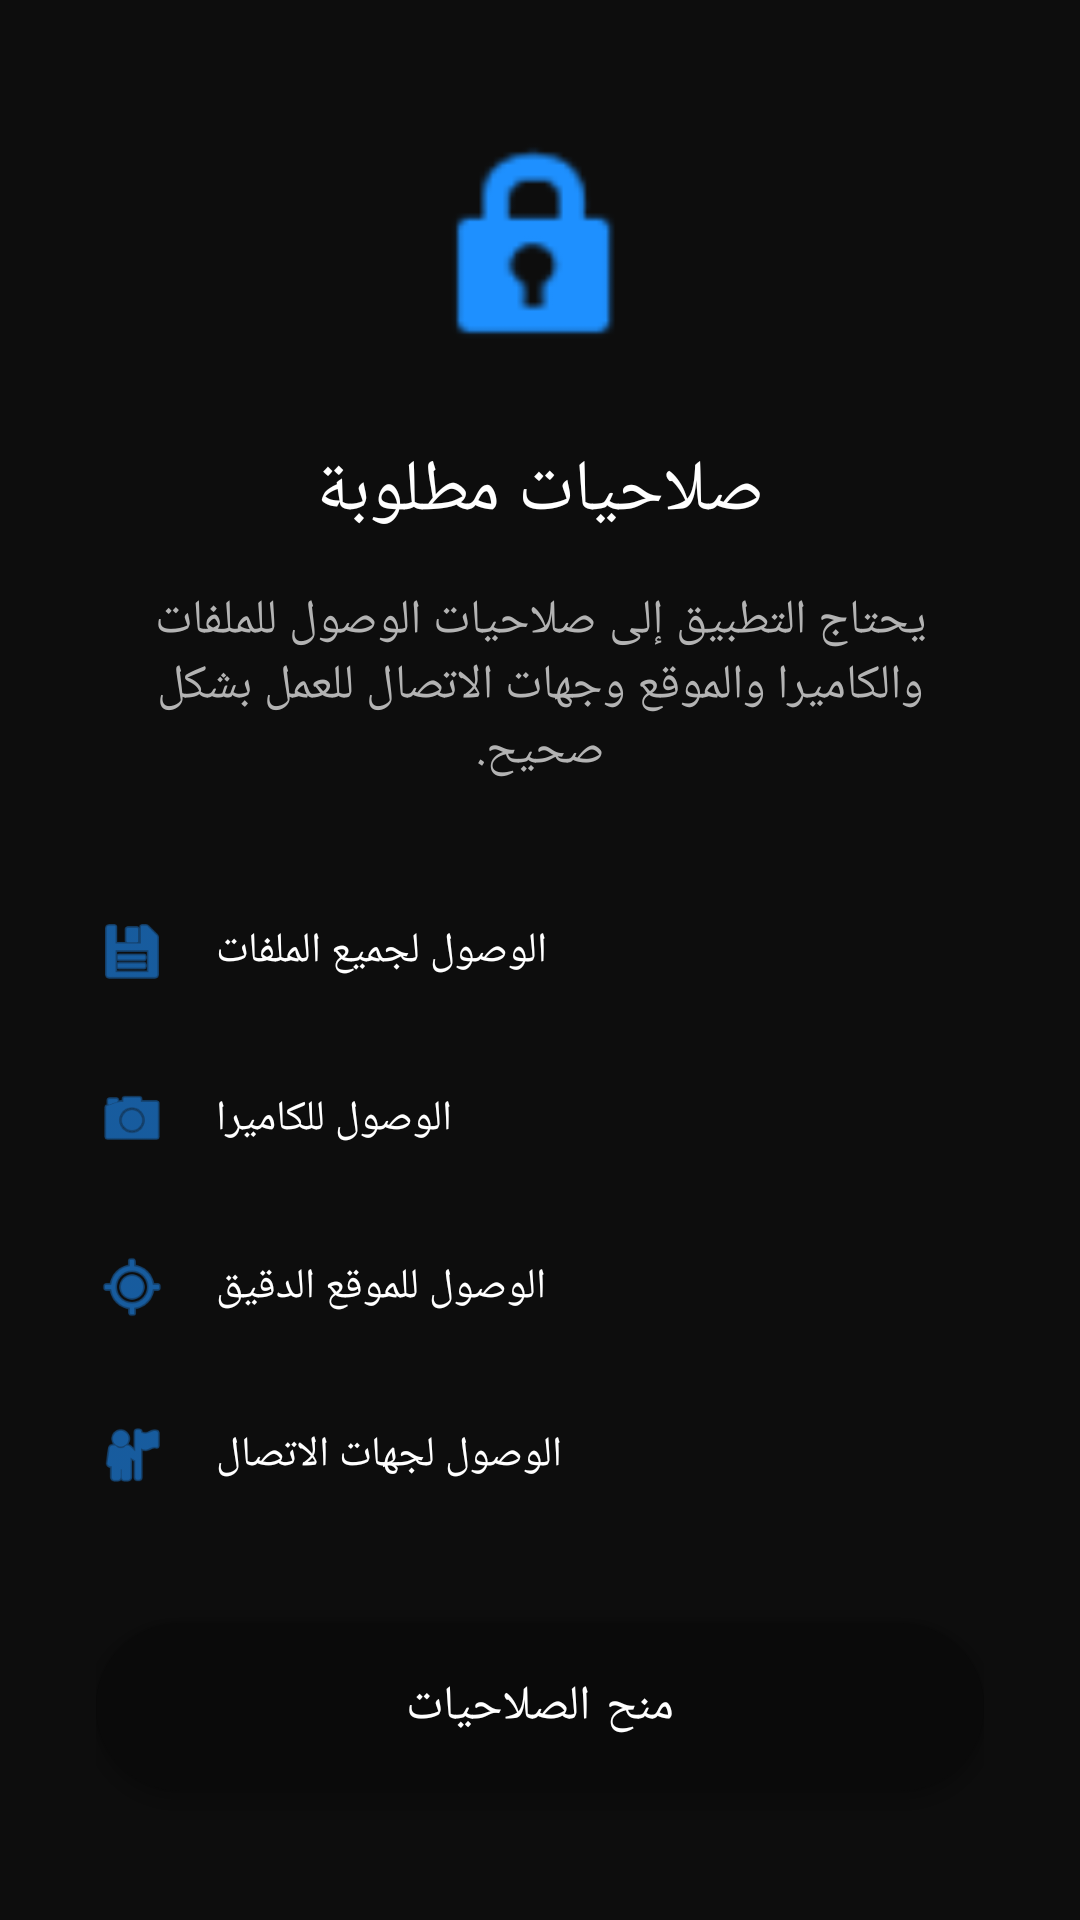

Screen size 1080x1920. Icon name, then its box in pixels as (x1, y1, x2, y2):
camera: (104, 1096, 160, 1140)
lock idle: (456, 150, 614, 334)
mylocation: (103, 1258, 161, 1316)
save: (105, 924, 159, 979)
